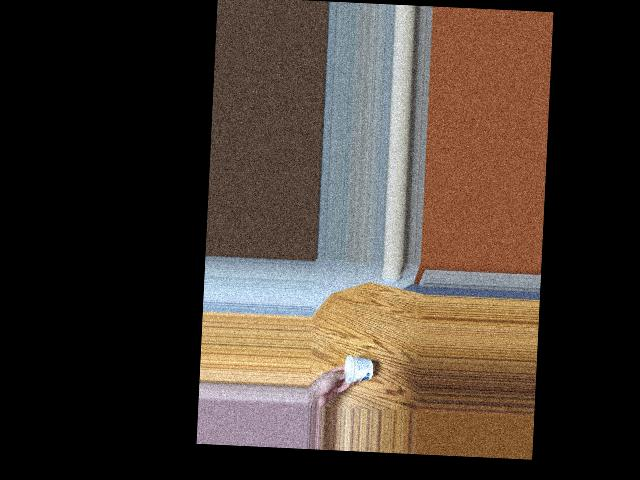cotage: (338, 352, 369, 382)
